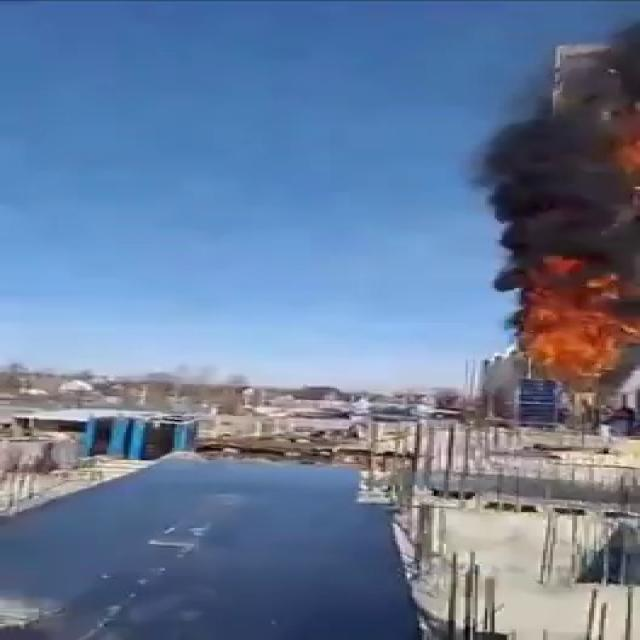Fire: (500, 268, 640, 386)
Smoke: (465, 2, 640, 313)
